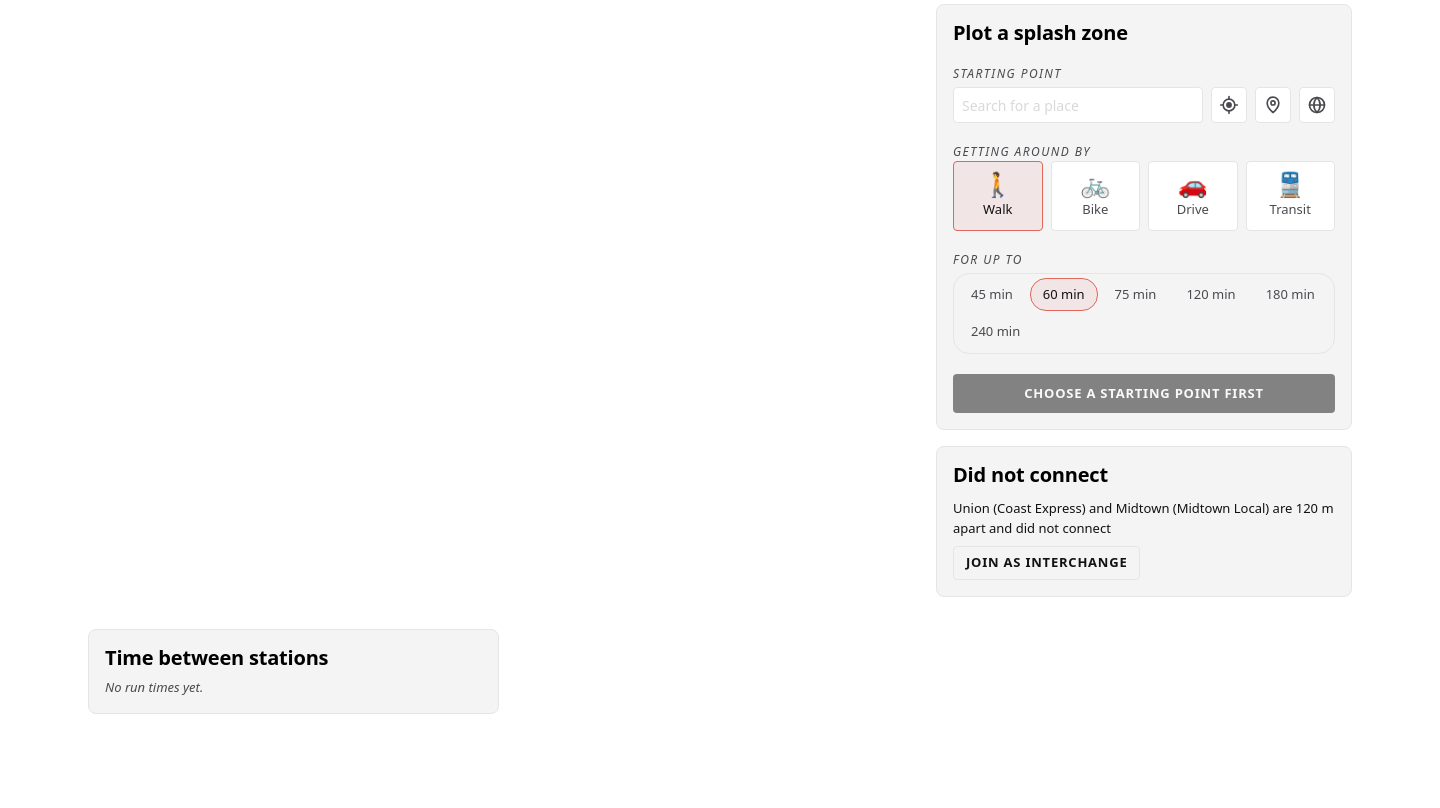
AuthoredScenarioView joining near misses into interchanges › applies the join to the scenario as it is now, not as the page loaded it
(page scrolled)
Click the button with test id "join-interchange": {"x": 1047, "y": 563} [953,546,1140,580]
(page scrolled)
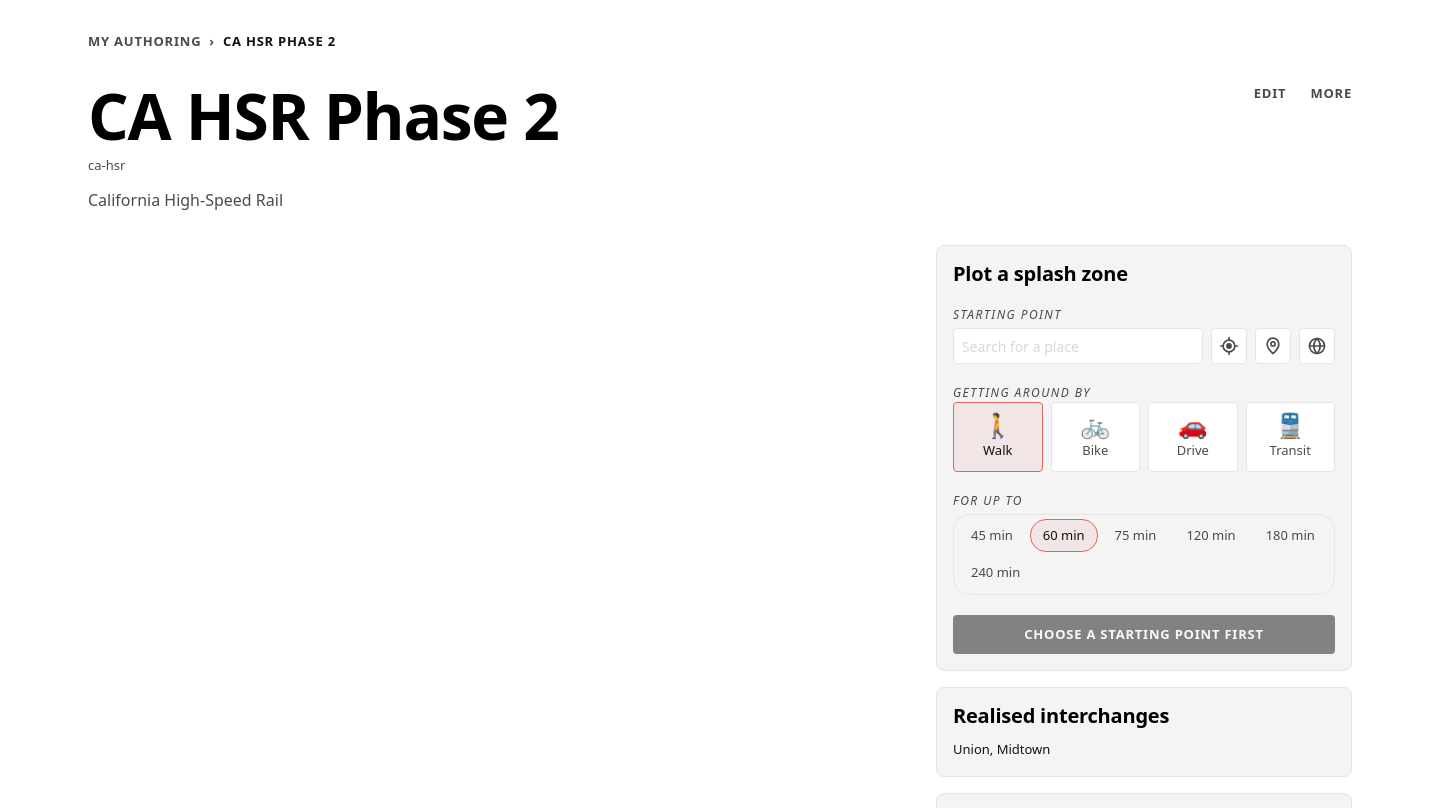
Now the heading "CA HSR Phase 2" is shown, box [88,84,558,148]
